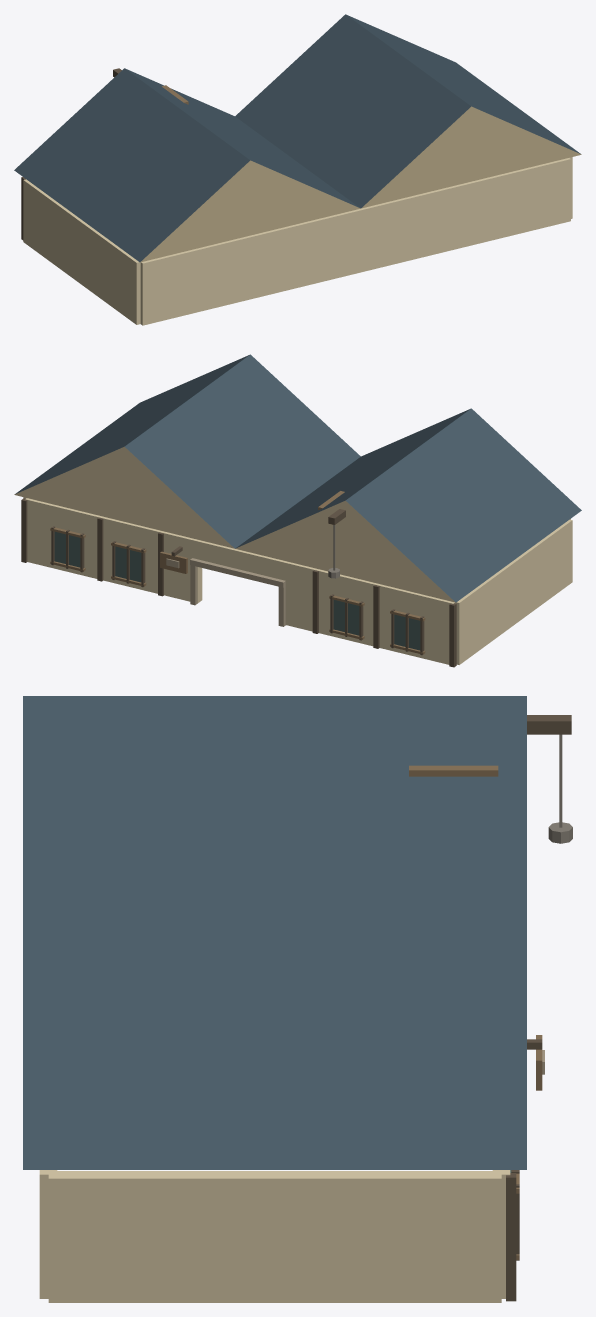
Rendered from TownEx_Warehouse_Cover.fbx.
3 renders of one model, top to bottom at view 1: azimuth 30°, elevation 25°; view 2: azimuth 150°, elevation 25°; view 3: azimuth 270°, elevation 25°, orthographic. The views are drawn at different scales.
Visible parts, largest first — view 1: TownEx_Warehouse_Cover; view 2: TownEx_Warehouse_Cover; view 3: TownEx_Warehouse_Cover.
Boxes of the visible parts, x1,y1,x2,y2 form: TownEx_Warehouse_Cover: (14, 14, 581, 325); TownEx_Warehouse_Cover: (14, 354, 581, 667); TownEx_Warehouse_Cover: (23, 696, 572, 1302).
Size of the model in its own units: 16 by 4.96 by 8.62.
